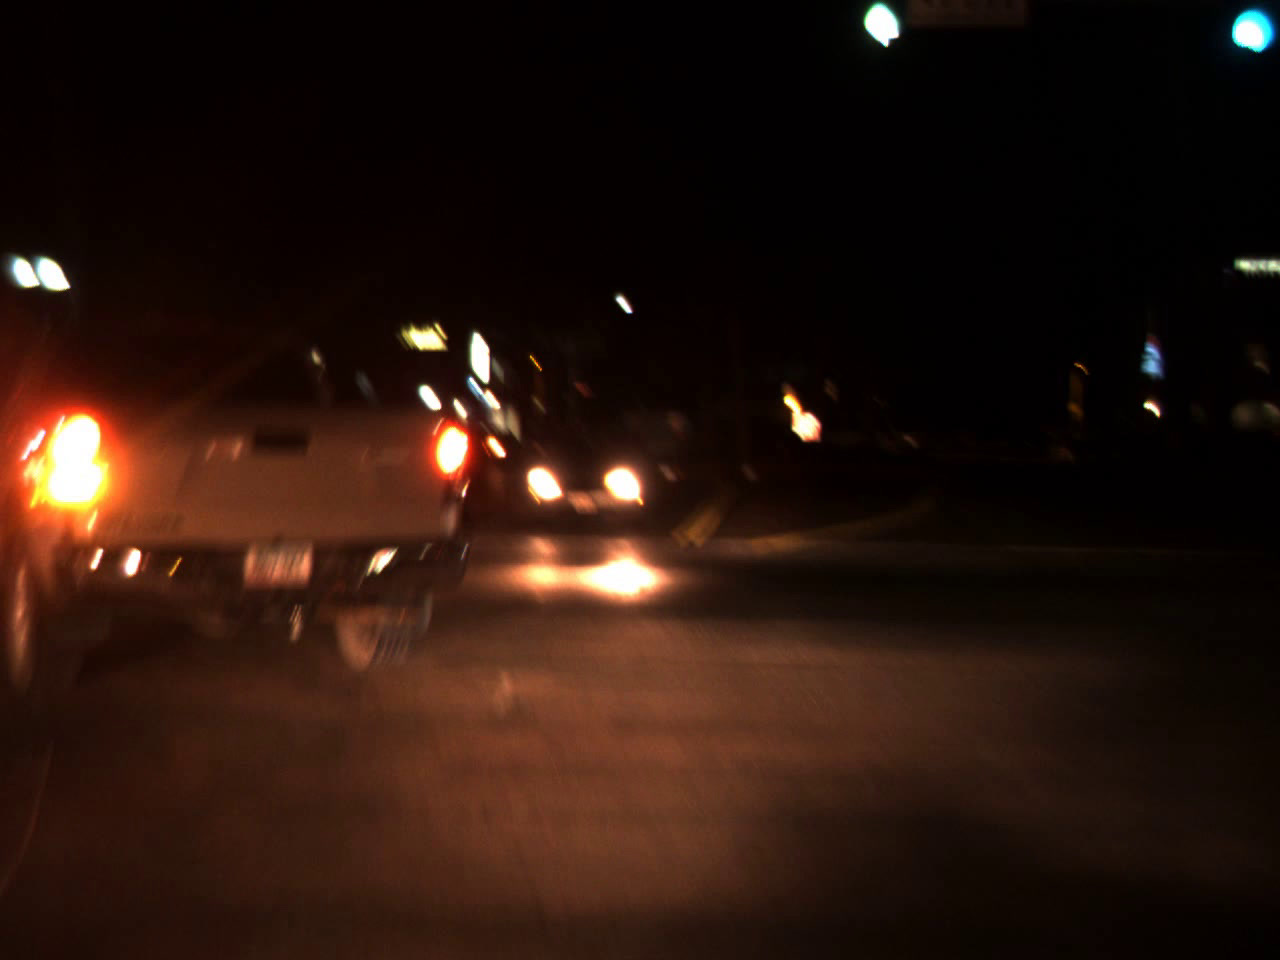go: (837, 0, 916, 65), (1220, 0, 1270, 61)
